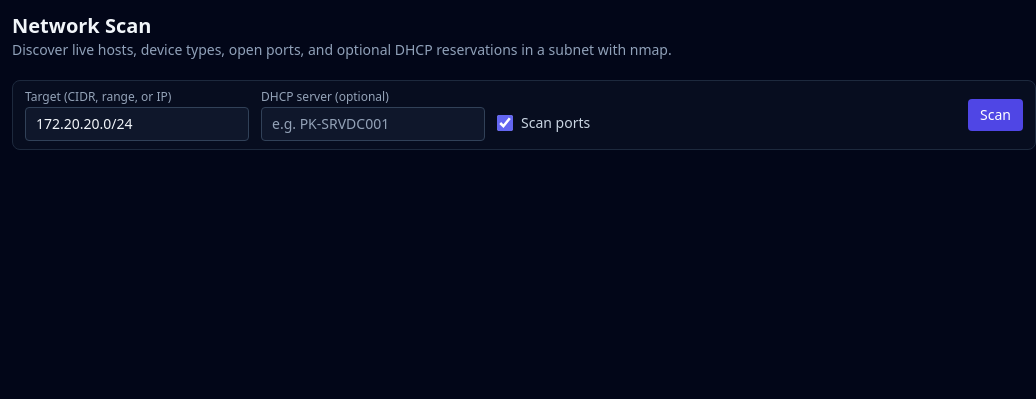
Test: NetworkScanPage › separates active reachability from unchecked DHCP context
Click the button "Scan" at point(996, 115), box [968,99,1023,131]
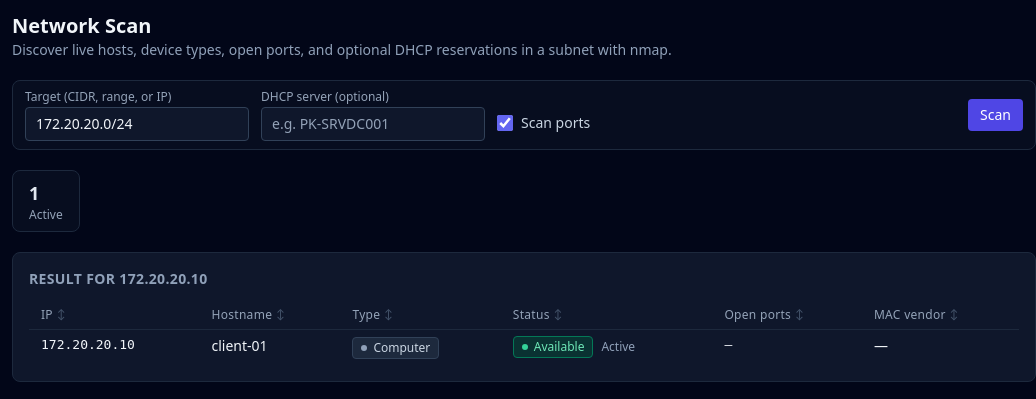
Expected: the text "Available" is shown, [513,336,594,358]
Expected: the text "Active" next to "Available" is shown, [601,338,635,355]
